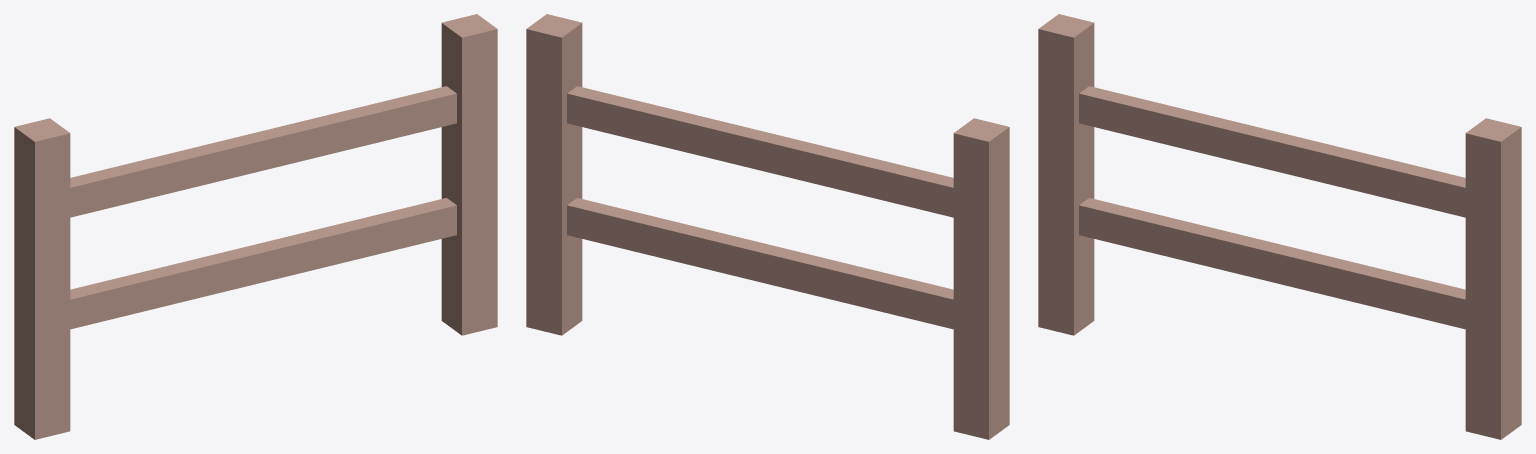
Rendered from low_poly_fence.glb.
3 views of the same model, side by side, from view 1: azimuth 30°, elevation 25°; view 2: azimuth 150°, elevation 25°; view 3: azimuth 330°, elevation 25° (orthographic).
Parts seen in each view (by area): view 1: Fence.001; view 2: Fence.001; view 3: Fence.001.
Boxes of the visible parts, x1,y1,x2,y2 form: Fence.001: [14, 14, 497, 439]; Fence.001: [526, 14, 1009, 439]; Fence.001: [1038, 14, 1521, 439].
Bounding box in the file's own units: 1.3 × 0.8 × 0.1.
